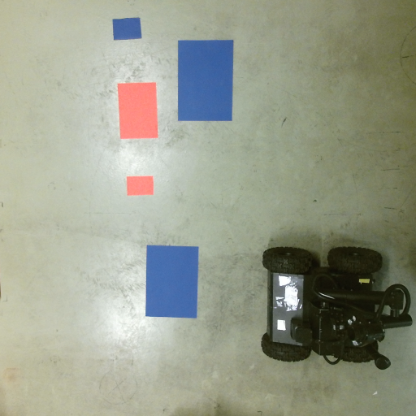Blue: (176, 41, 234, 122), (146, 244, 199, 319), (111, 17, 142, 42)
Jaguar: (260, 245, 416, 373)
Red: (116, 82, 160, 140), (124, 174, 156, 196)
